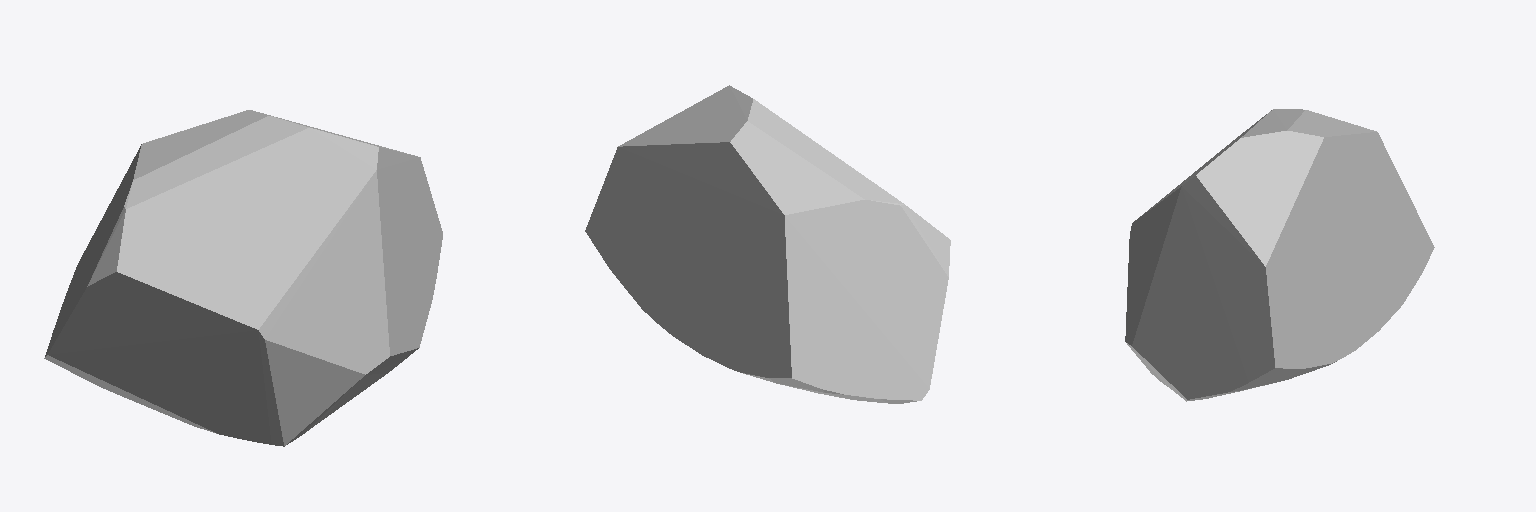
Rendered from Sphere_Cell_Fracture30.obj.
3 views of the same model, side by side, from view 1: azimuth 30°, elevation 25°; view 2: azimuth 150°, elevation 25°; view 3: azimuth 270°, elevation 25° (orthographic).
Bounding box in the file's own units: 0.8588 × 0.5963 × 0.6215.